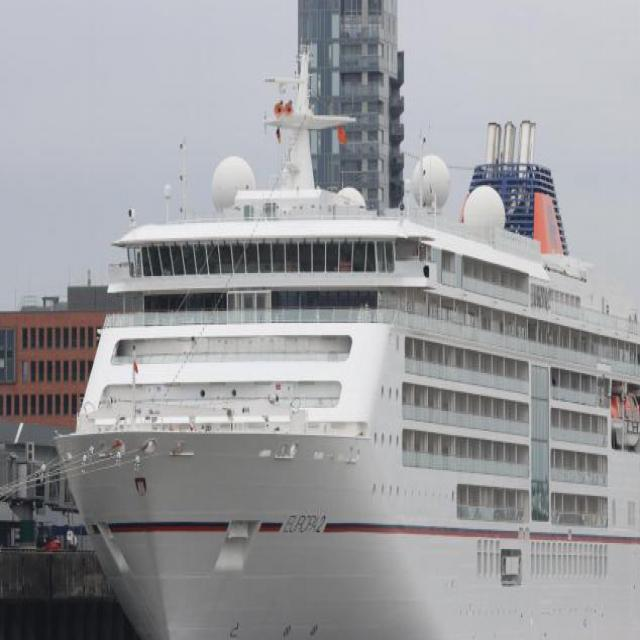cruises: (49, 45, 640, 640)
